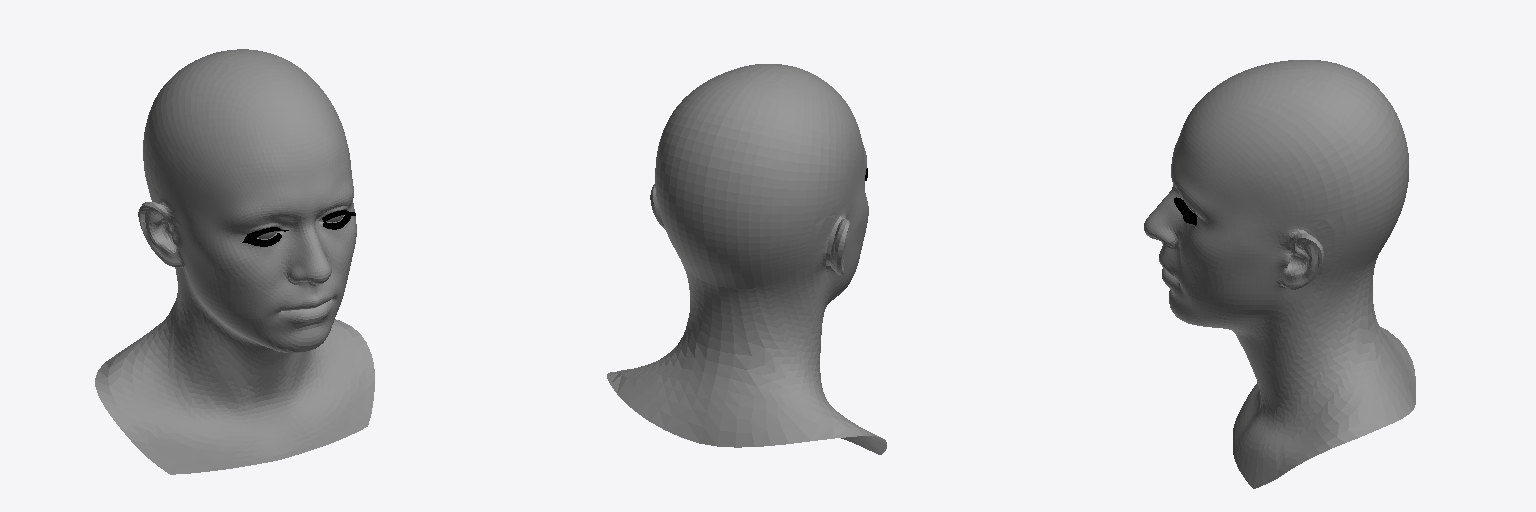
File: browDown_L.obj
3 views of the same model, side by side, from view 1: azimuth 30°, elevation 25°; view 2: azimuth 150°, elevation 25°; view 3: azimuth 270°, elevation 25° (orthographic).
Size of the model in its own units: 24.83 by 33.81 by 22.32.